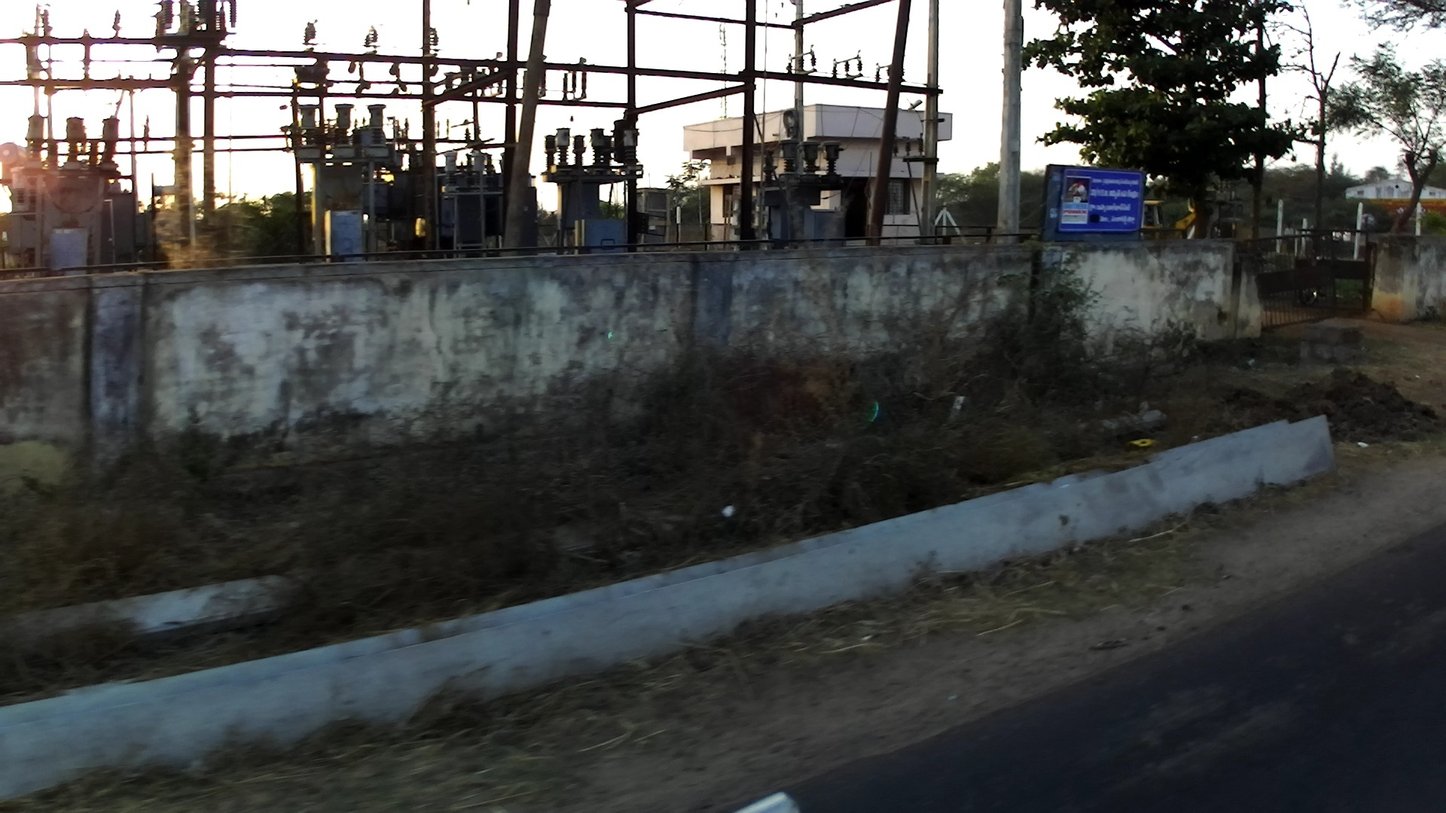car: (1284, 223, 1295, 235)
vehicle fallback: (1140, 198, 1196, 238)
